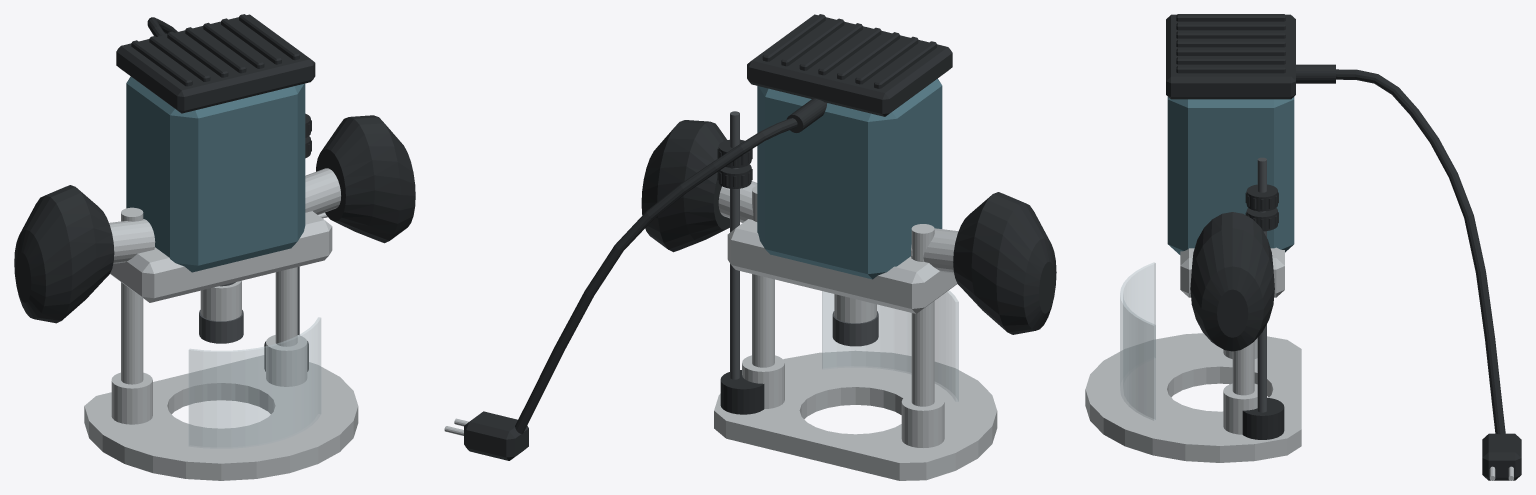
File: full.glb
The picture shows the model from 3 angles, left to right: view 1: azimuth 30°, elevation 25°; view 2: azimuth 150°, elevation 25°; view 3: azimuth 270°, elevation 25°; orthographic projection. The views are drawn at different scales.
Parts seen in each view (by area): view 1: Tall rounded motor housing, D base with circular opening, Curved front chip guard, Curved side palm grip -1, Curved side palm grip 1, Flat ribbed top cover, Raised motor carriage, Plunge guide column -1, Column base socket -1, Column base socket 1, Plunge guide column 1, Grip mounting neck -1 (+10 smaller); view 2: Tall rounded motor housing, D base with circular opening, Curved side palm grip -1, Flat ribbed top cover, Curved side palm grip 1, Raised motor carriage, Curved front chip guard, Complete generic cord, Plunge guide column -1, Generic complete plug, Plunge guide column 1, Column base socket -1 (+15 smaller); view 3: D base with circular opening, Tall rounded motor housing, Curved side palm grip 1, Flat ribbed top cover, Curved front chip guard, Complete generic cord, Generic complete plug, Small rotary stop, Threadlike depth stop rod, Column base socket 1, Raised motor carriage, Plunge guide column 1 (+9 smaller).
Boxes of the visible parts, box(x1,y1,x2,y2) form: Tall rounded motor housing: box(126, 76, 305, 272); D base with circular opening: box(84, 355, 358, 480); Curved front chip guard: box(189, 317, 320, 448); Curved side palm grip -1: box(14, 185, 114, 323); Curved side palm grip 1: box(316, 115, 415, 243); Flat ribbed top cover: box(116, 14, 315, 113); Raised motor carriage: box(110, 211, 332, 302); Plunge guide column -1: box(121, 207, 143, 384); Column base socket -1: box(111, 372, 152, 424); Column base socket 1: box(266, 335, 307, 386); Plunge guide column 1: box(275, 267, 297, 346); Grip mounting neck -1: box(109, 219, 155, 263); Tall rounded motor housing: box(757, 78, 942, 279); D base with circular opening: box(714, 350, 997, 480); Curved side palm grip -1: box(953, 192, 1056, 334); Flat ribbed top cover: box(747, 14, 952, 116); Curved side palm grip 1: box(641, 120, 729, 252); Raised motor carriage: box(727, 219, 957, 313); Curved front chip guard: box(822, 290, 958, 401); Complete generic cord: box(515, 118, 797, 433); Plunge guide column -1: box(911, 224, 934, 406); Generic complete plug: box(464, 411, 528, 460); Plunge guide column 1: box(752, 186, 774, 367); Column base socket -1: box(901, 394, 944, 447); D base with circular opening: box(1085, 333, 1301, 462); Tall rounded motor housing: box(1167, 96, 1294, 254); Curved side palm grip 1: box(1190, 212, 1274, 351); Flat ribbed top cover: box(1166, 14, 1295, 99); Curved front chip guard: box(1120, 262, 1155, 420); Complete generic cord: box(1336, 69, 1505, 434); Generic complete plug: box(1482, 433, 1521, 480); Small rotary stop: box(1242, 397, 1284, 439); Threadlike depth stop rod: box(1257, 157, 1266, 412); Column base socket 1: box(1223, 383, 1257, 434); Raised motor carriage: box(1180, 247, 1284, 297); Plunge guide column 1: box(1232, 341, 1254, 395).
Bounding box in the file's own units: 0.319 × 0.2575 × 0.2785.
